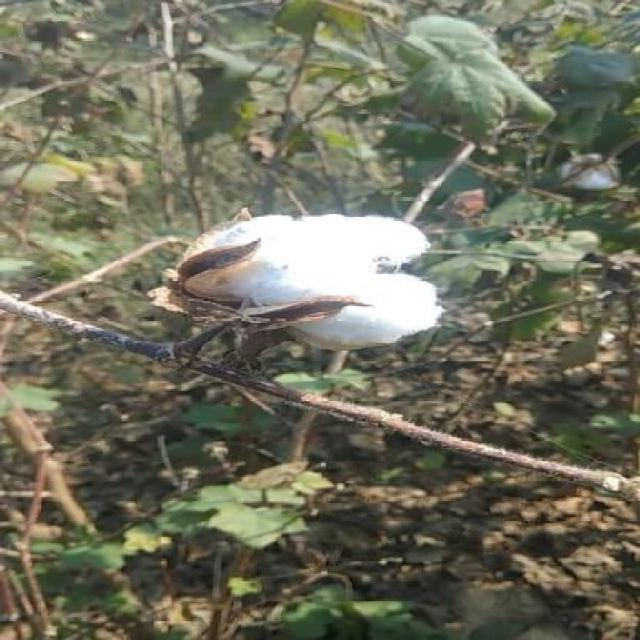cotton_ready: (109, 186, 460, 422)
